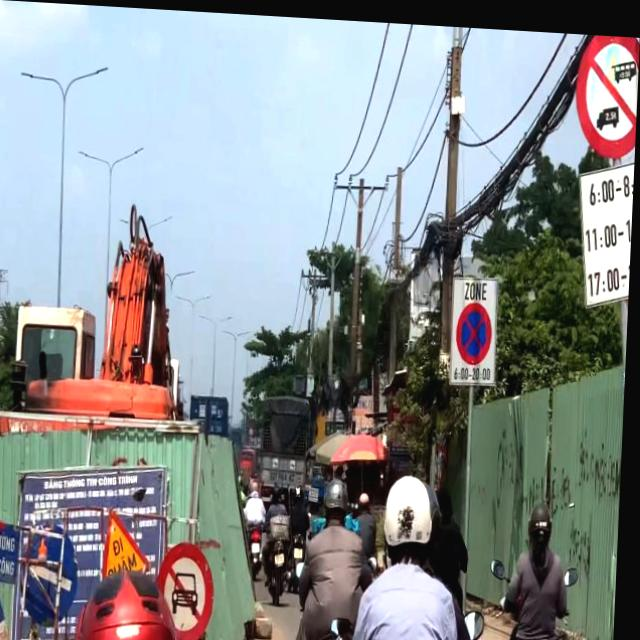Cam dung xe va do xe: (458, 296, 495, 360)
Cam xe oto: (160, 537, 222, 640)
